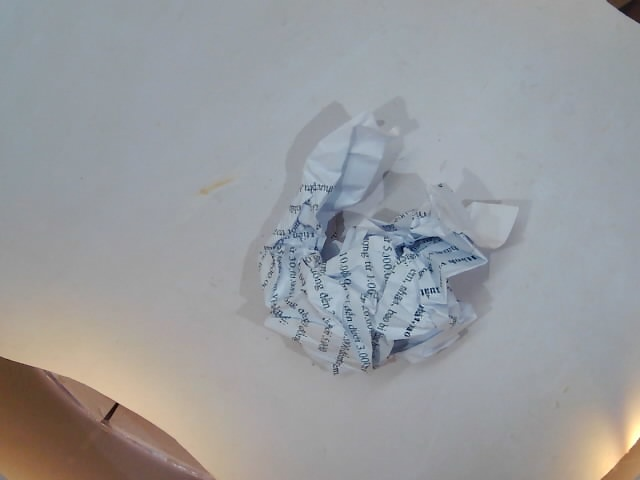paper: (245, 105, 523, 384)
